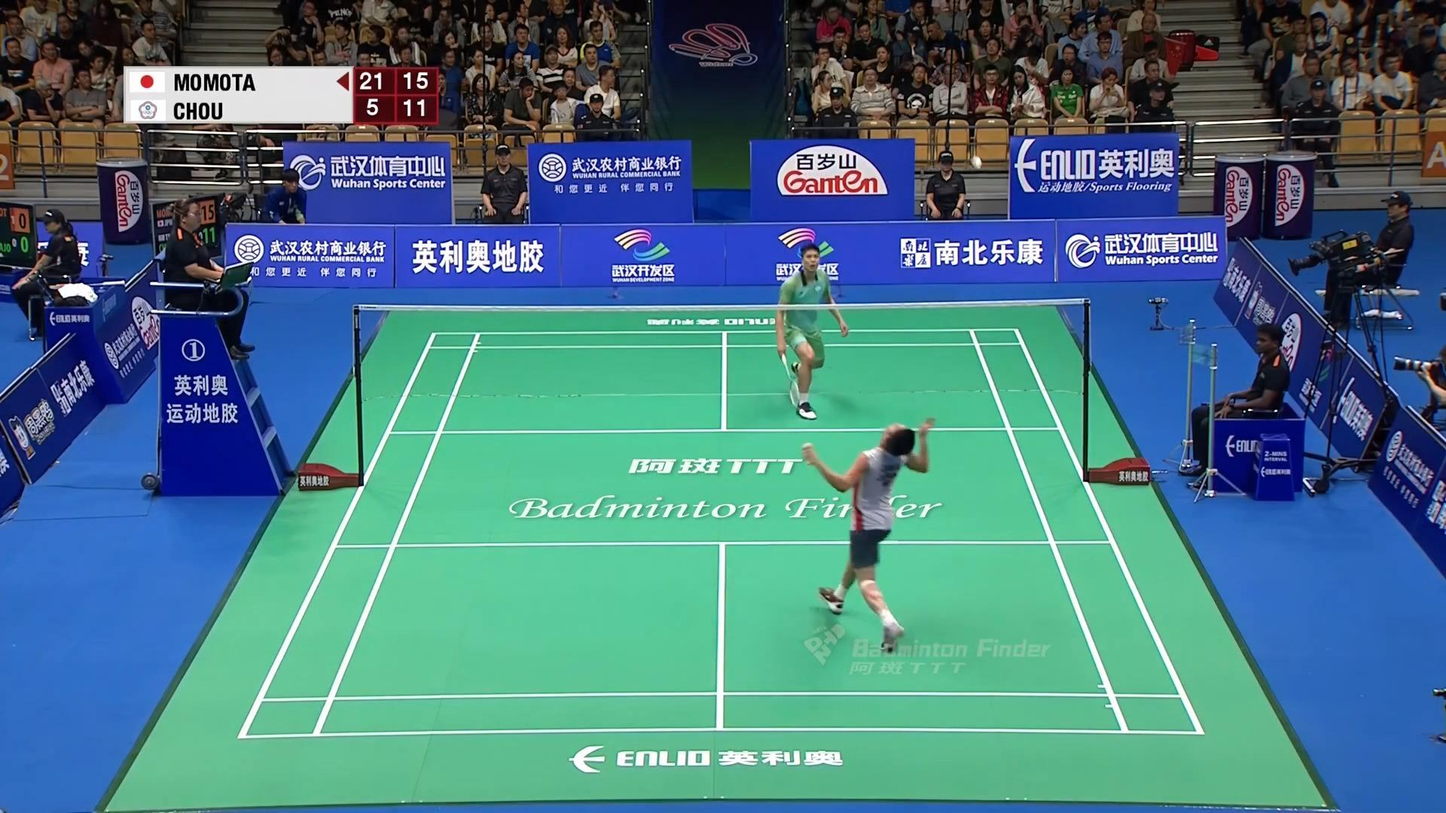shuttlecock: (970, 156, 983, 169)
